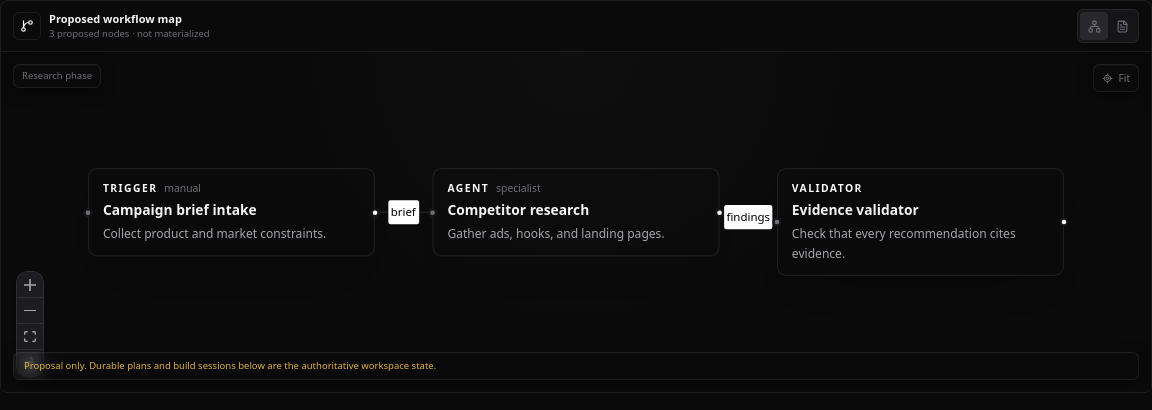
Test case: <ChatPlanCanvas /> › lets the operator switch to the raw agent-authored plan text
The image size is (1152, 410).
Click the button named "Show plan text" at (1122, 26), box [1108,12,1136,40]
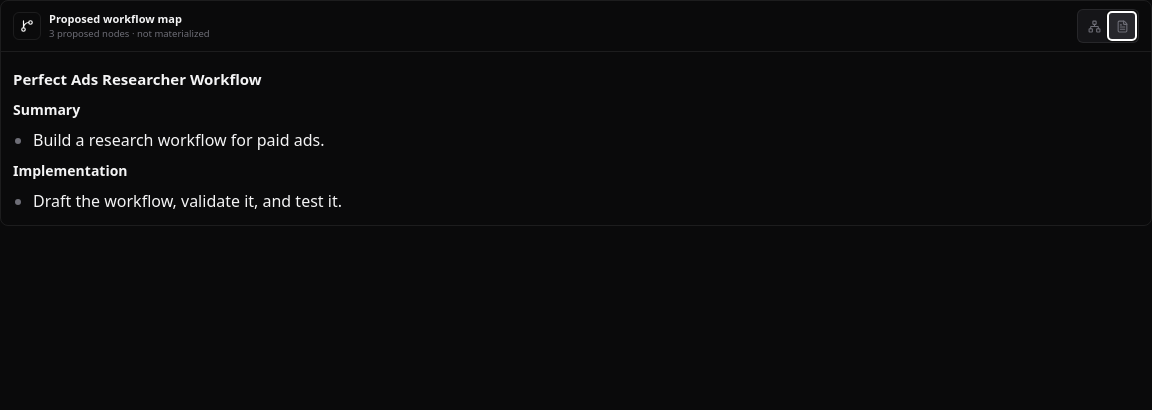
Now the text "Implementation" is shown, box [13,160,128,180]
Now the list item "Draft the workflow, validate it, and test it." is shown, box [33,190,342,212]
